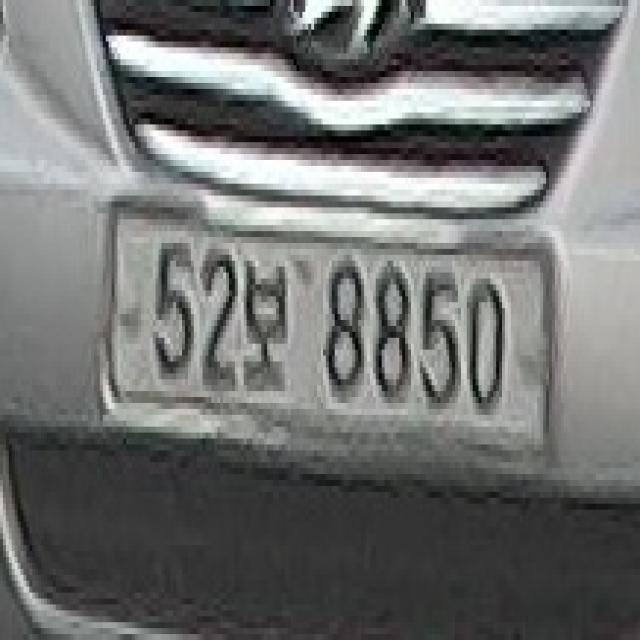0: (464, 272, 506, 431)
2: (202, 245, 238, 398)
5: (419, 248, 462, 430), (150, 230, 193, 392)
8: (320, 250, 366, 406), (373, 256, 412, 412)
bo: (246, 250, 288, 408)
license_plate: (100, 184, 568, 498)
